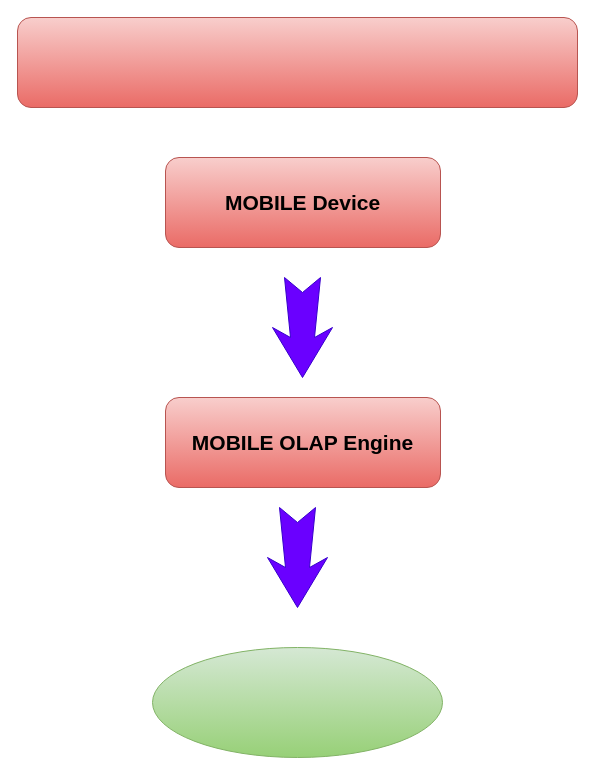
Image size: 595x775. Some labels were removed from this diagram. Each missing label, with the centre of its shape:
CLOUD OLAP CUBE: (x=297, y=702)
MOBILE OLAP ARCHITECTURE: (x=297, y=62)
